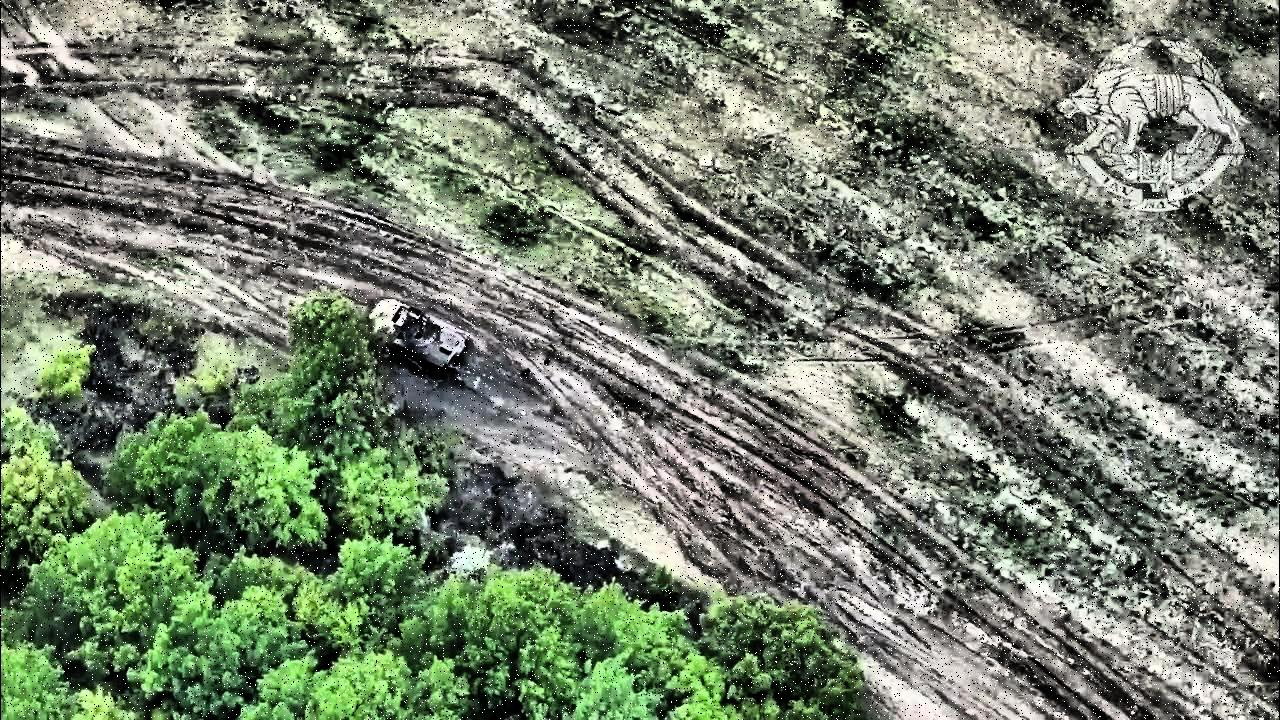military-vehicle: (367, 300, 474, 378)
